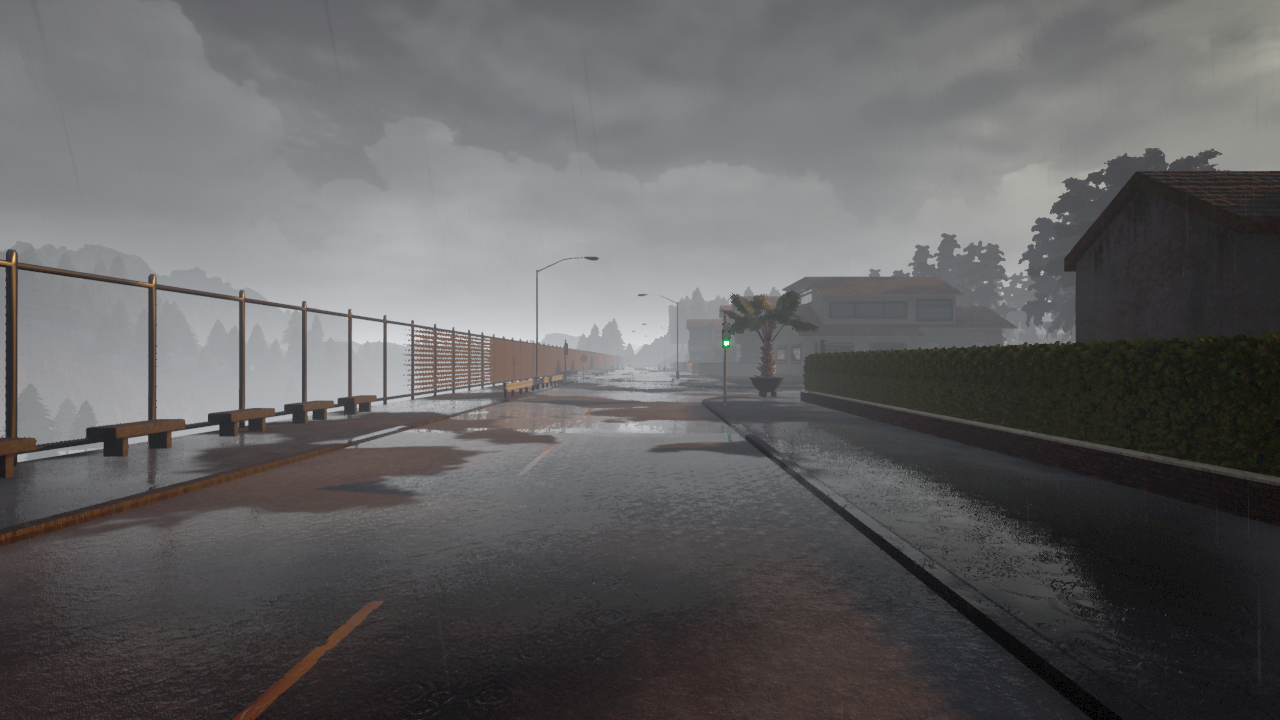green: (720, 322, 731, 349)
